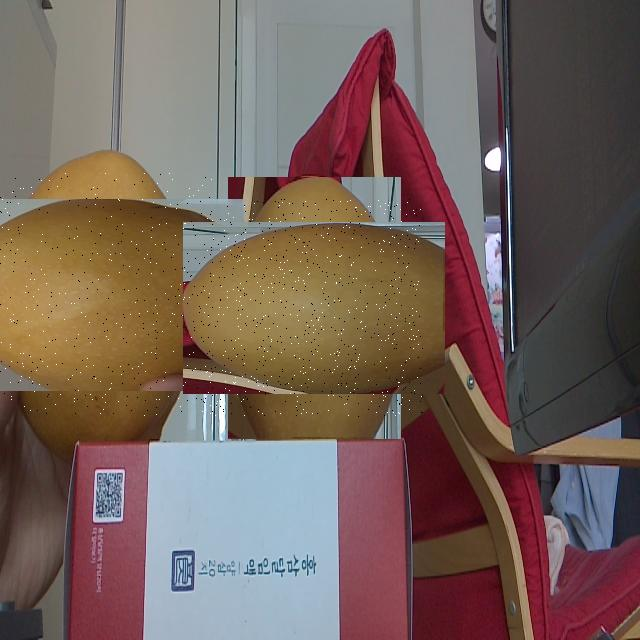pear: (0, 172, 218, 416), (206, 199, 423, 417)
